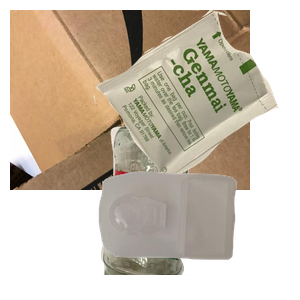cardboard: (10, 10, 250, 190)
glass: (98, 120, 286, 300)
plastic: (96, 169, 300, 300)
trash: (91, 10, 300, 186)
